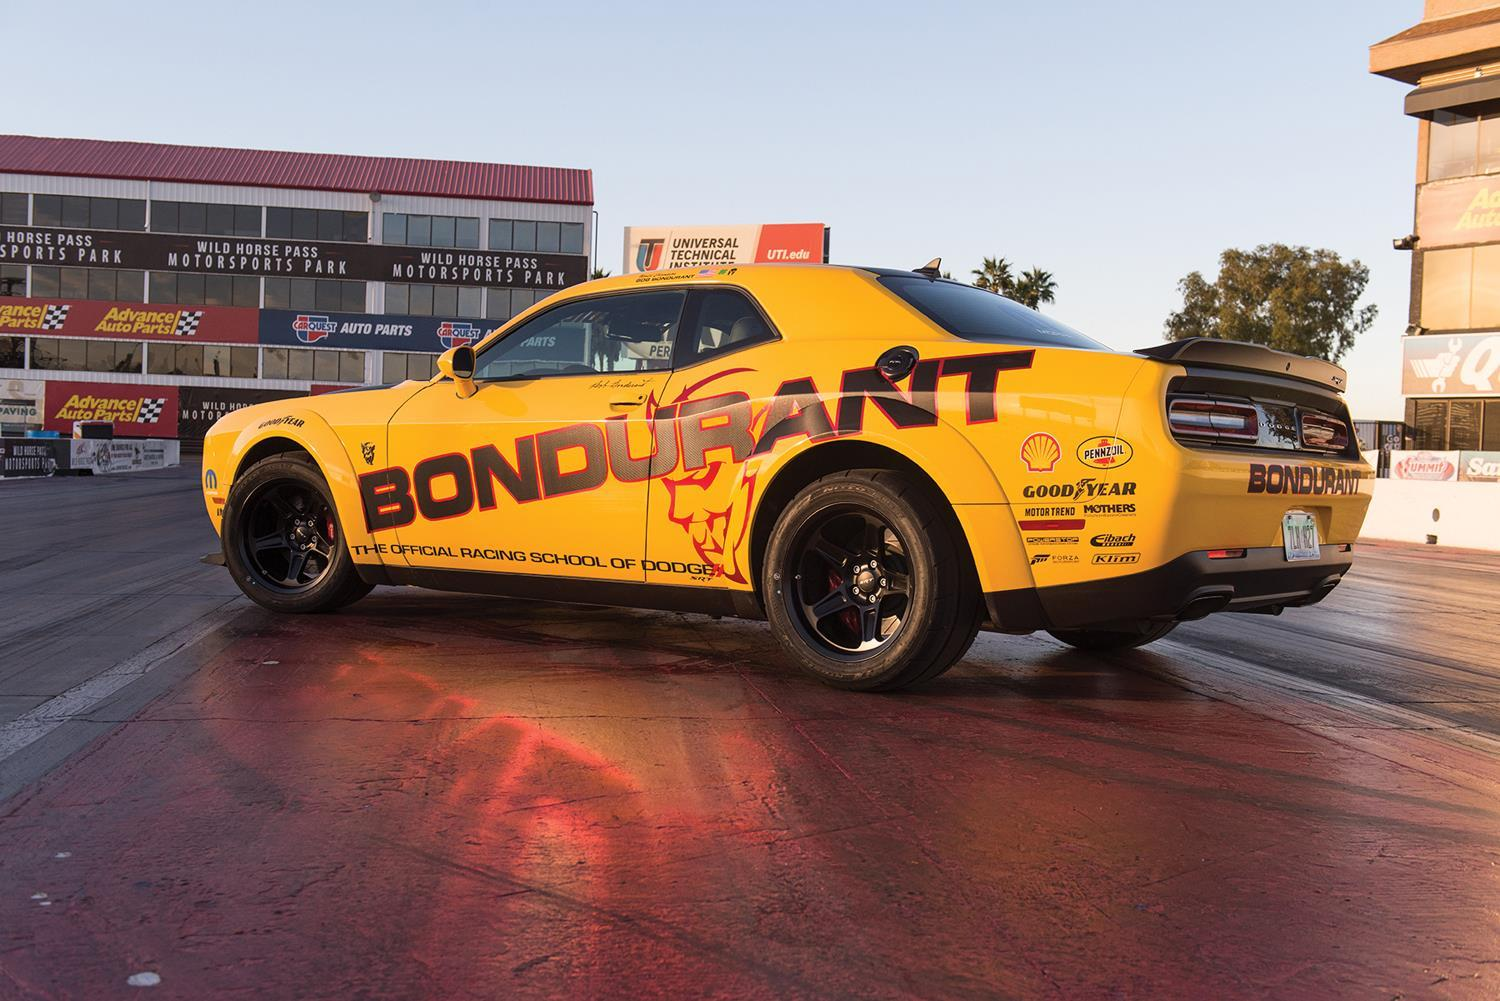taxi: (203, 274, 1372, 693)
